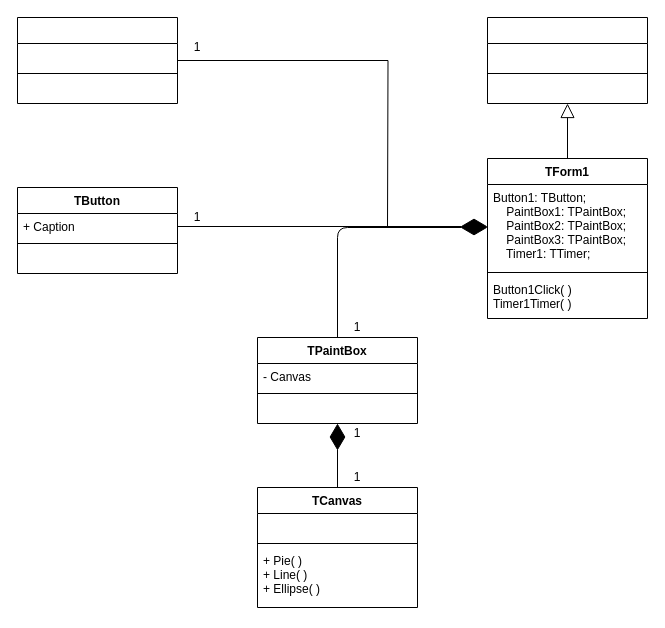
Some shapes in this 665 by 628 pixel diagram are drawn without their labels. The shapes that lost their labels are listed below. From the top down, each one's centre as x and y in pixels, then its label:
point 97,60: TTimer
point 567,60: TForm
